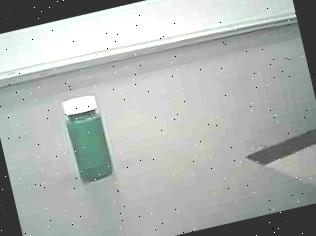Bottle C: (51, 86, 128, 188)
